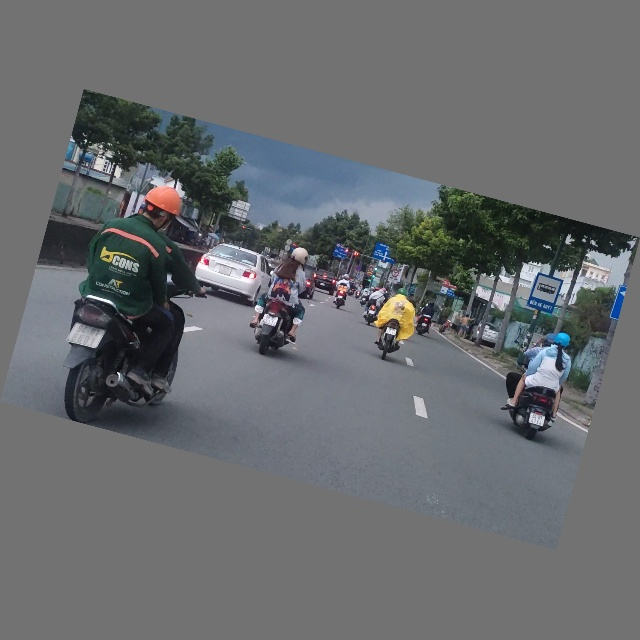I.434a: (528, 273, 561, 314)
P.102: (291, 242, 298, 249)
P.137: (391, 269, 400, 279)
R.415a: (332, 247, 348, 261)
